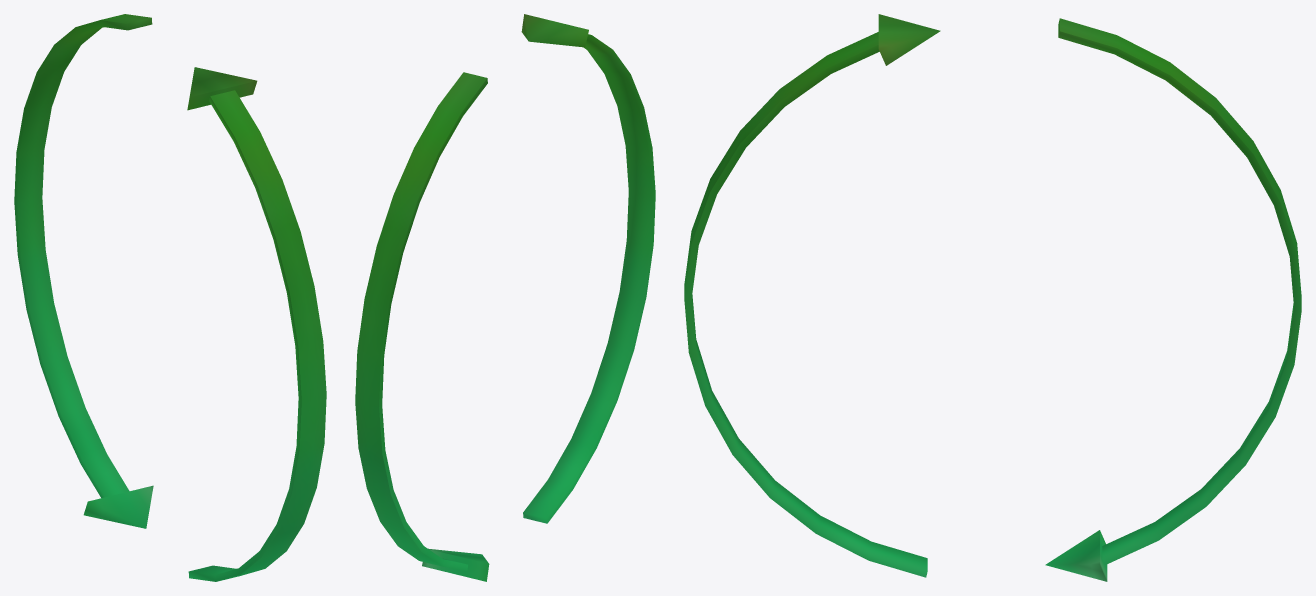
File: 6a881e3b-a13f-4d94-8f0e-efe141d45f2d.glb
3 renders of one model, left to right at view 1: azimuth 30°, elevation 25°; view 2: azimuth 150°, elevation 25°; view 3: azimuth 270°, elevation 25°, orthographic. The views are drawn at different scales.
Parts seen in each view (by area): view 1: GizmoRotateY; view 2: GizmoRotateY; view 3: GizmoRotateY.
Boxes of the visible parts, x1,y1,x2,y2 form: GizmoRotateY: (14,14,326,581); GizmoRotateY: (355,14,655,581); GizmoRotateY: (684,14,1301,581).
Size of the model in its own units: 0.2712 by 1.95 by 2.
1 material, 1 textured.
